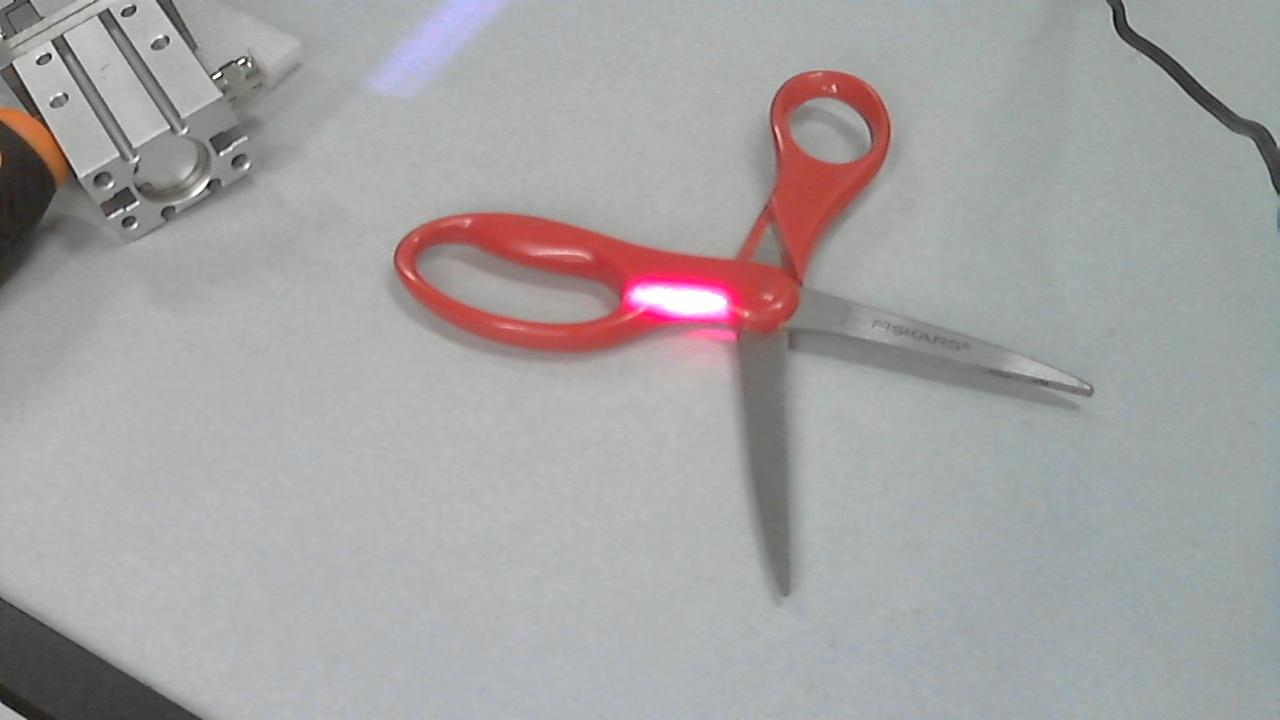Object scissors - Material plastic - Pdfname tYexGlkiIXWc: (605, 260, 782, 327)
